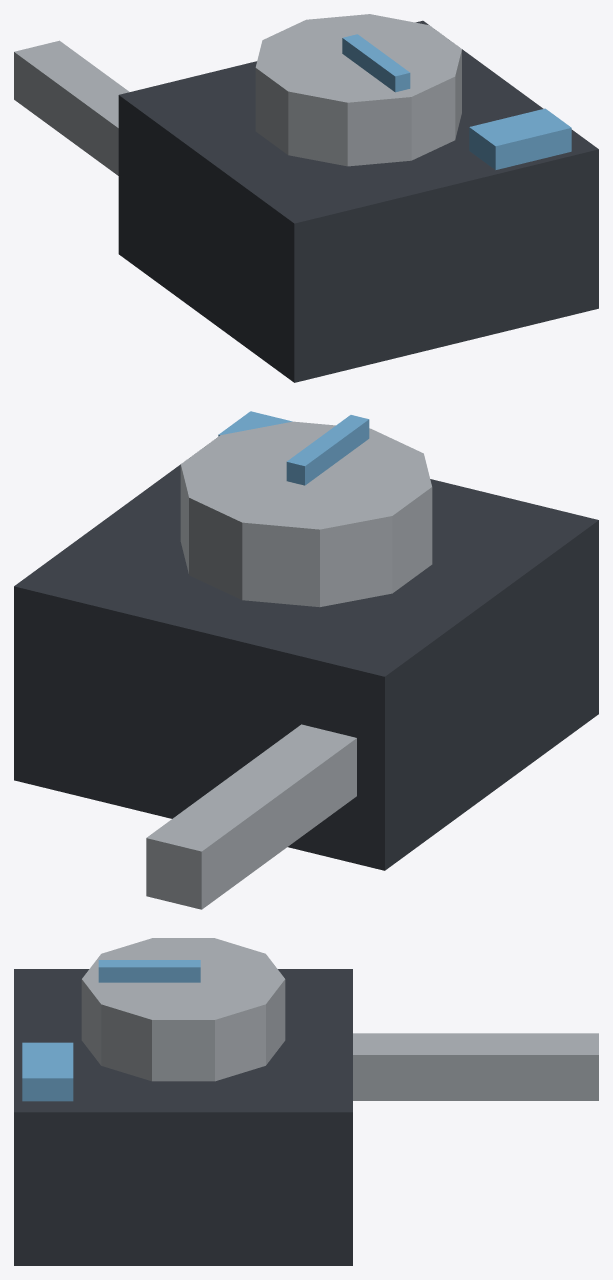
Rendered from calibrator-oscillation.glb.
3 renders of one model, top to bottom at view 1: azimuth 30°, elevation 25°; view 2: azimuth 150°, elevation 25°; view 3: azimuth 270°, elevation 25°, orthographic. The views are drawn at different scales.
Parts seen in each view (by area): view 1: m; view 2: m; view 3: m.
Part boxes in pixels (box(x1,y1,x2,y2)): m: box(14, 14, 598, 382); m: box(14, 411, 598, 909); m: box(14, 938, 598, 1265).
Bounding box in the file's own units: 0.0406 × 0.0304 × 0.07.
